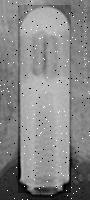Implant Direct: (18, 5, 71, 193)
